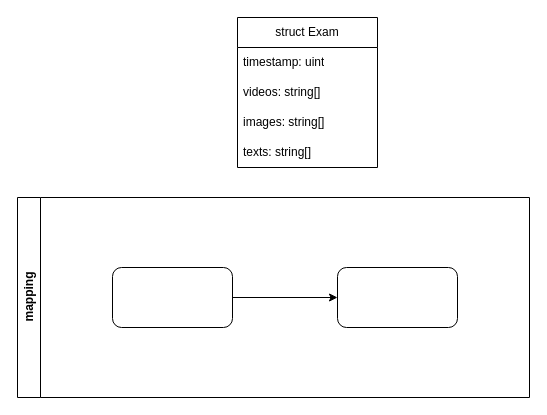
Image size: 547x415. Some labels were removed from this diagram. The centre of each missing label's shape, as x and y in pixels:
Address: point (172, 297)
struct Exam[]: point (397, 297)
